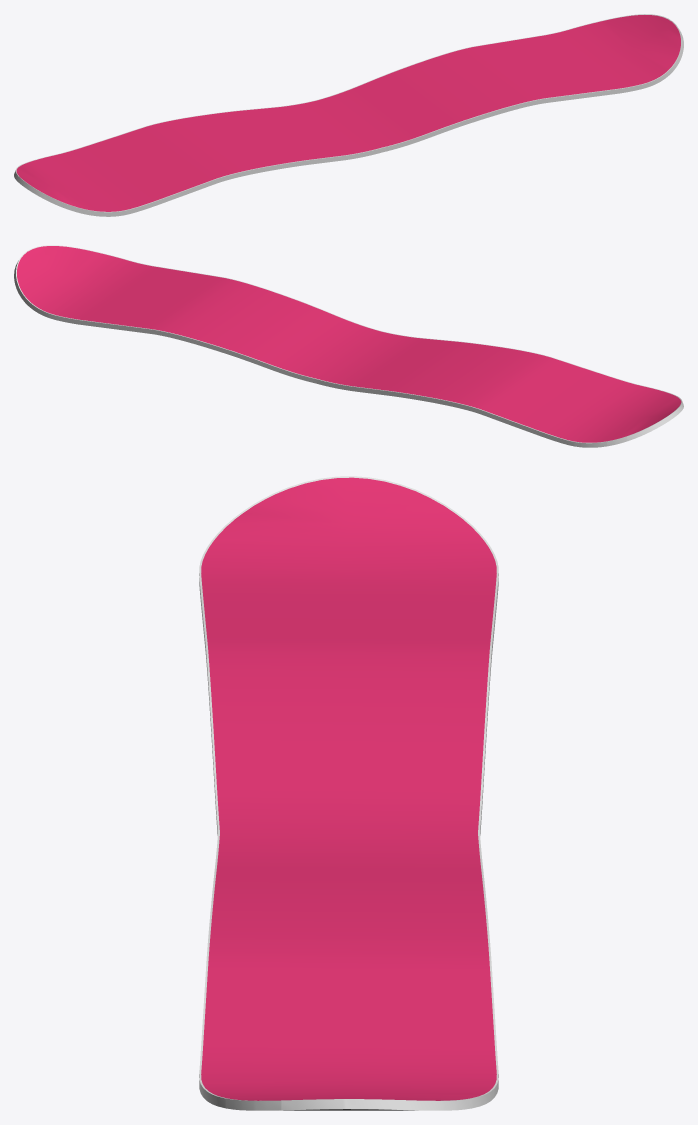
Rendered from board_twin-tip_hybrid-rocker.gltf.
3 renders of one model, top to bottom at view 1: azimuth 30°, elevation 25°; view 2: azimuth 150°, elevation 25°; view 3: azimuth 270°, elevation 25°, orthographic. The views are drawn at different scales.
Parts seen in each view (by area): view 1: board-top, board-edge; view 2: board-top, board-edge; view 3: board-top, board-edge.
Part boxes in pixels (x1,y1,x2,y2): board-top: (16,15,680,211); board-edge: (14,14,683,216); board-top: (17,246,681,442); board-edge: (14,245,683,447); board-top: (201,477,496,1100); board-edge: (199,476,498,1110).
Size of the model in its own units: 1.51 by 0.0645 by 0.301.
